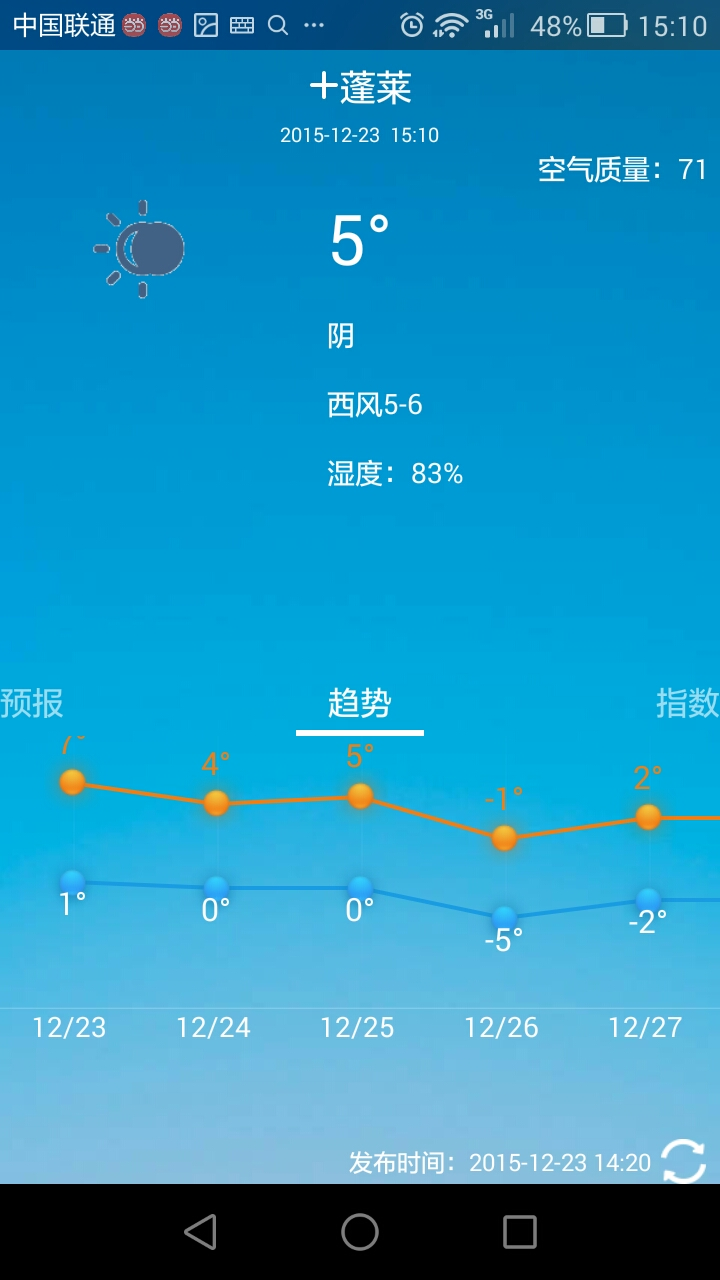textview: (261, 66, 453, 153)
